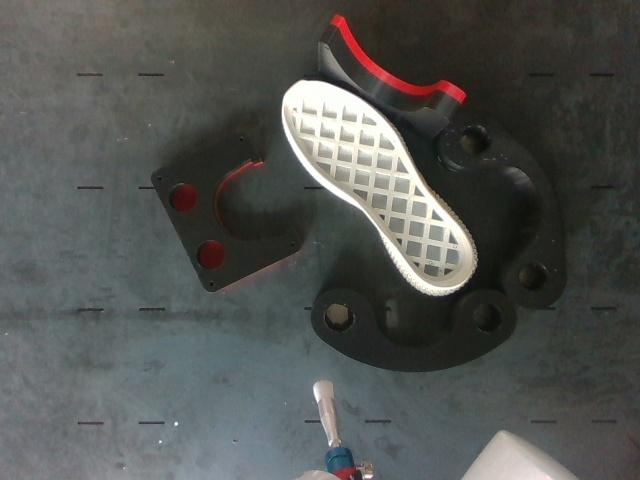shoes: (284, 82, 473, 288)
